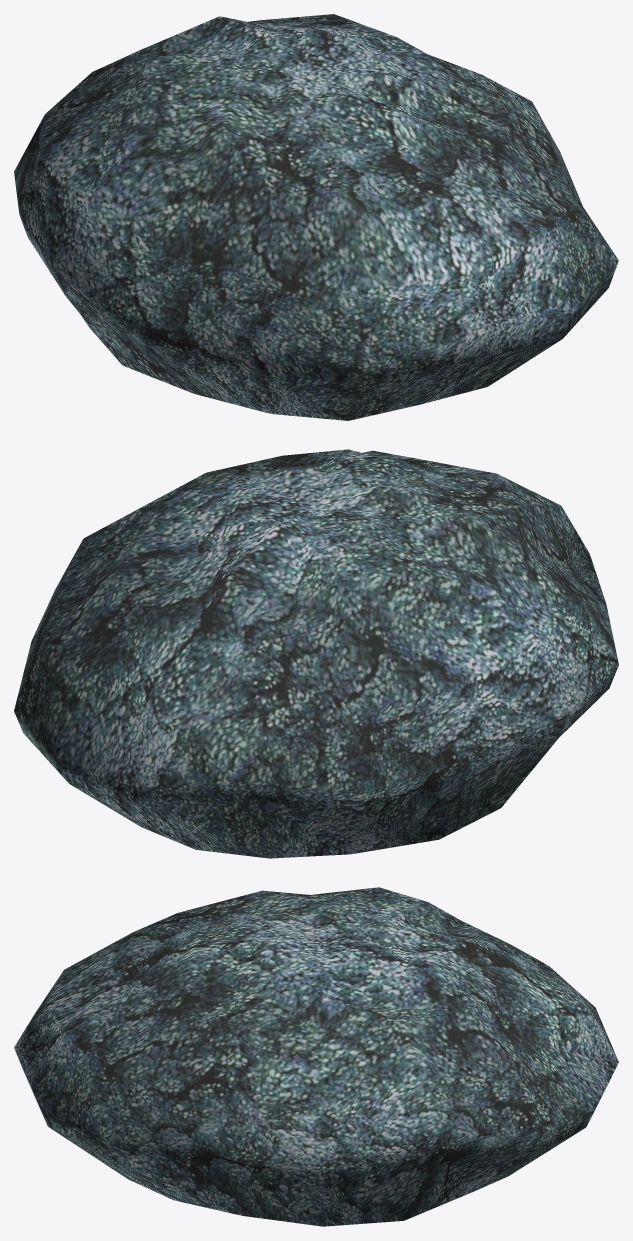
Rendered from rock_crystl_watrbush_flat_l0.fbx.
3 renders of one model, top to bottom at view 1: azimuth 30°, elevation 25°; view 2: azimuth 150°, elevation 25°; view 3: azimuth 270°, elevation 25°, orthographic. The views are drawn at different scales.
Parts seen in each view (by area): view 1: mesh_node; view 2: mesh_node; view 3: mesh_node.
Part boxes in pixels (x1=…): mesh_node: x1=14, y1=14, x2=618, y2=420; mesh_node: x1=14, y1=449, x2=618, y2=858; mesh_node: x1=14, y1=887, x2=618, y2=1226.
Bounding box in the file's own units: 3.34 × 1.65 × 4.04.
